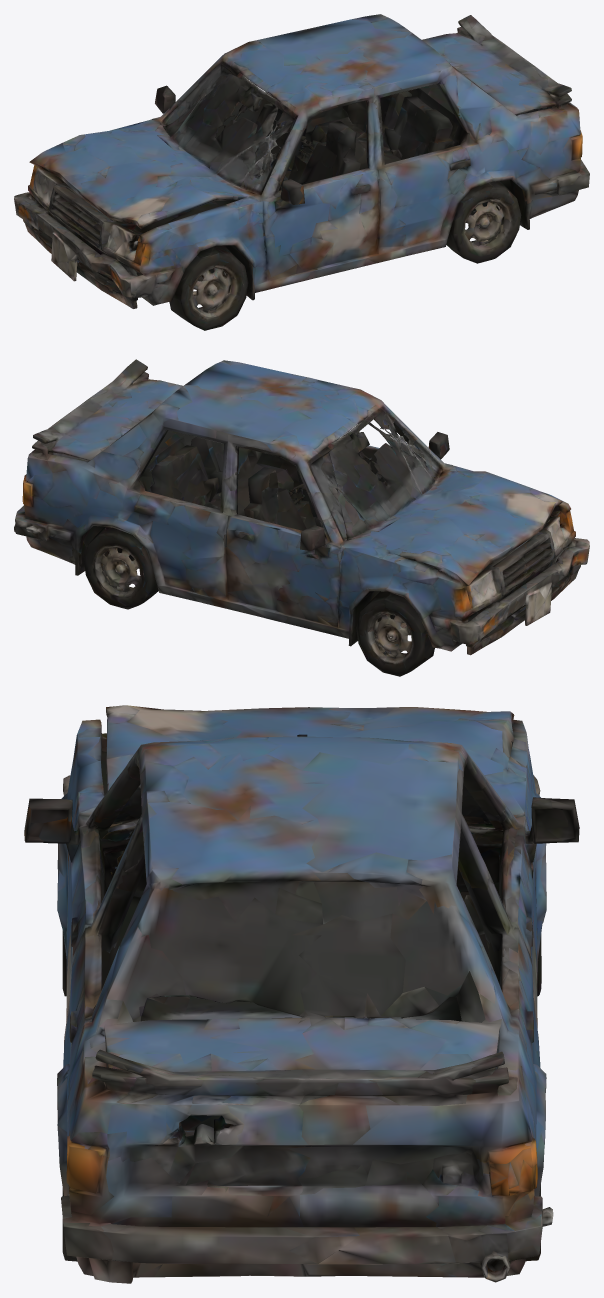
File: onvoro.glb
3 views of the same model, one above another, from view 1: azimuth 30°, elevation 25°; view 2: azimuth 150°, elevation 25°; view 3: azimuth 270°, elevation 25° (orthographic). The views are drawn at different scales.
Size of the model in its own units: 1.9 by 0.7066 by 0.9566.
1 material, 1 textured.
